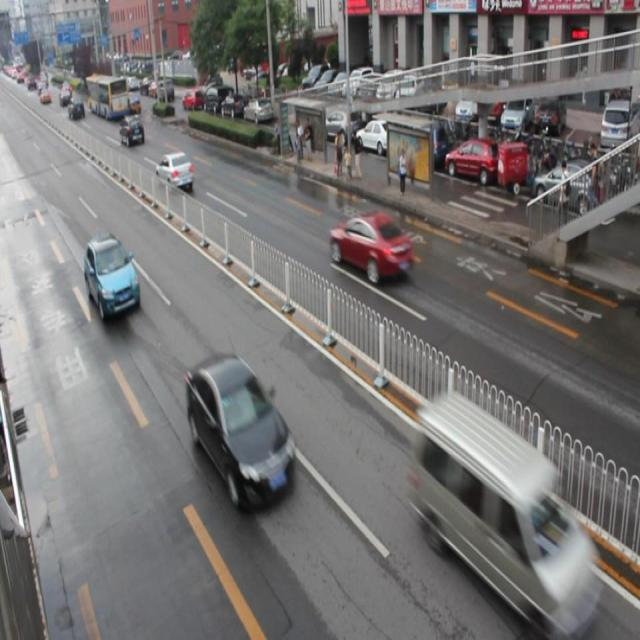car: (184, 354, 295, 510), (328, 212, 415, 282), (83, 233, 141, 319), (155, 151, 194, 190), (120, 114, 145, 149)
truck: (410, 394, 591, 634)
